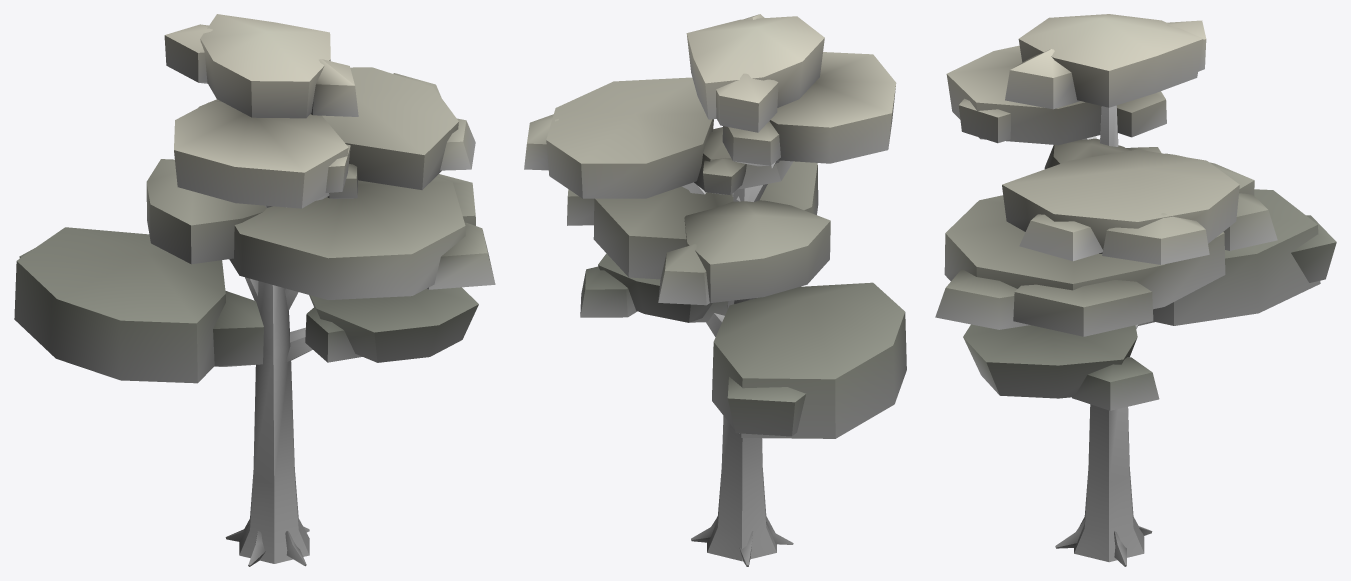
The model's file is beech_b.glb.
The picture shows the model from 3 angles, left to right: view 1: azimuth 30°, elevation 25°; view 2: azimuth 150°, elevation 25°; view 3: azimuth 270°, elevation 25°; orthographic projection.
Parts seen in each view (by area): view 1: Crown.001, Trunk.001; view 2: Crown.001, Trunk.001; view 3: Crown.001, Trunk.001.
Part boxes in pixels (bbox=[...]): Crown.001: bbox=[14, 14, 495, 383]; Trunk.001: bbox=[225, 205, 312, 566]; Crown.001: bbox=[524, 14, 906, 438]; Trunk.001: bbox=[682, 159, 793, 566]; Crown.001: bbox=[935, 14, 1336, 410]; Trunk.001: bbox=[1055, 105, 1152, 566].
Bounding box in the file's own units: 8 × 10.6 × 7.39.
